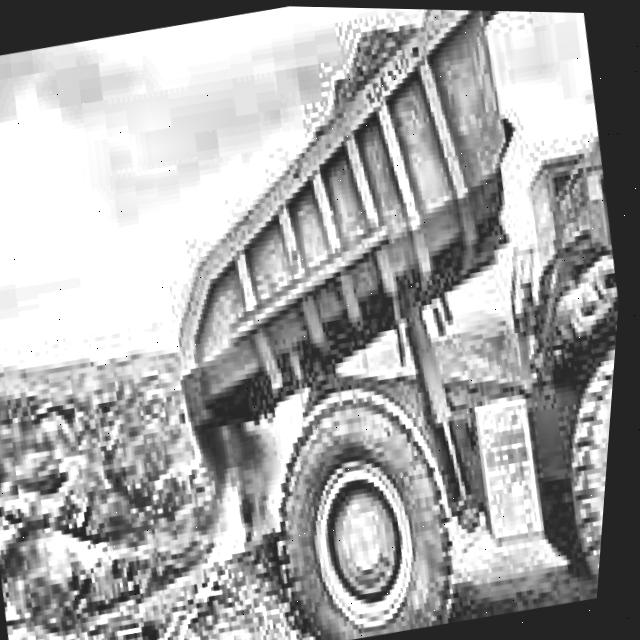dump_truck: (82, 2, 640, 640)
